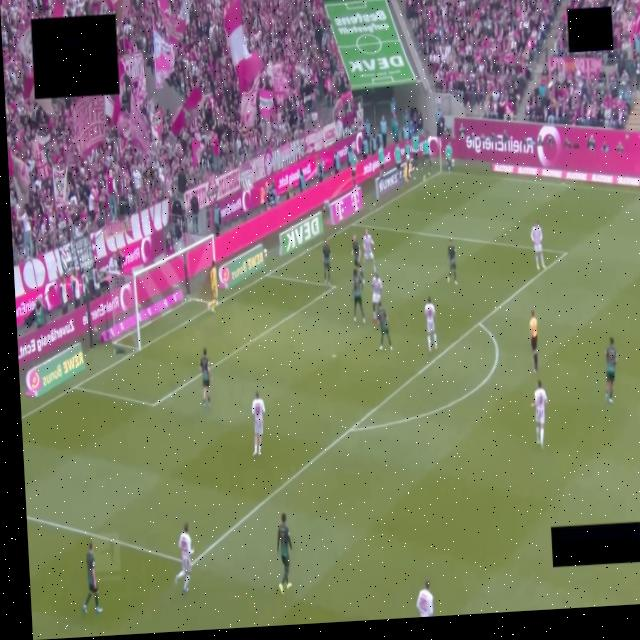player: (82, 542, 101, 612), (174, 523, 192, 592), (277, 513, 291, 593), (531, 380, 546, 447), (605, 338, 617, 404), (351, 268, 365, 323), (252, 391, 264, 455), (376, 302, 391, 350), (531, 222, 545, 271), (199, 348, 210, 408), (424, 297, 436, 351), (416, 581, 433, 616), (362, 230, 375, 273), (351, 236, 363, 282), (207, 260, 217, 312), (371, 273, 381, 322), (446, 239, 456, 285), (322, 239, 330, 285)
referee: (529, 311, 537, 373)
